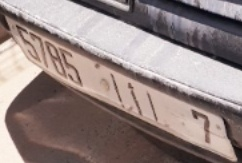5: (14, 23, 42, 64), (58, 47, 85, 86)
7: (24, 31, 48, 71), (191, 108, 214, 145)
8: (43, 39, 66, 77)
a: (127, 79, 145, 118)
